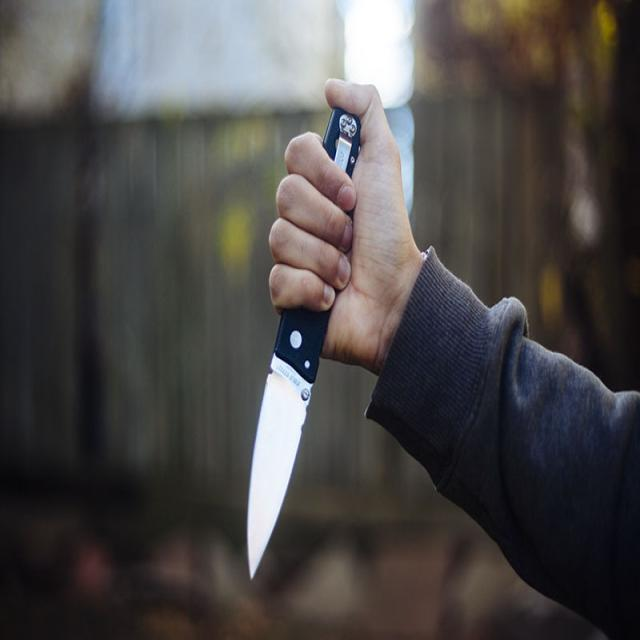knife: (243, 101, 367, 589)
